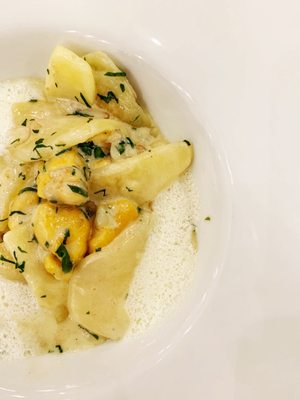sushi: (0, 22, 234, 387)
